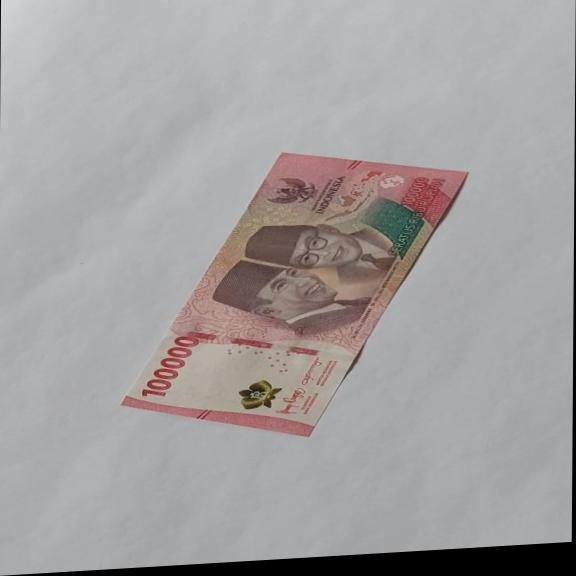Kertas: (119, 140, 471, 449), (139, 334, 200, 399)
